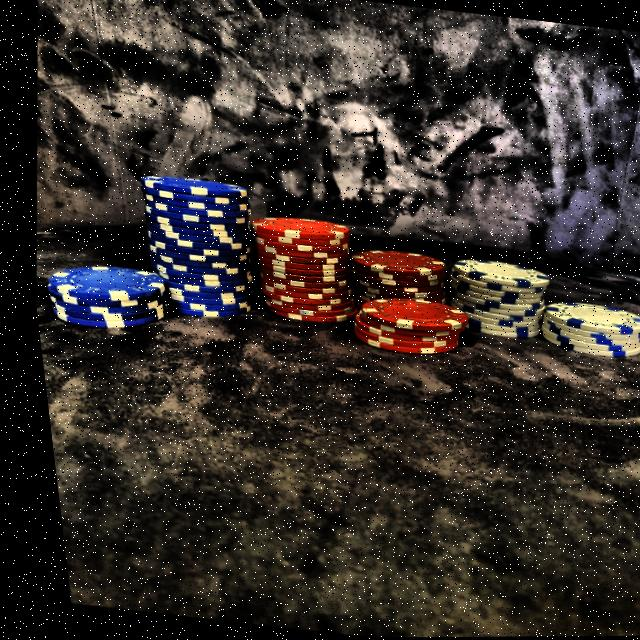Chip: (113, 159, 266, 335), (323, 228, 466, 368), (224, 200, 358, 336), (414, 239, 564, 359), (510, 275, 640, 375), (35, 246, 164, 343)
